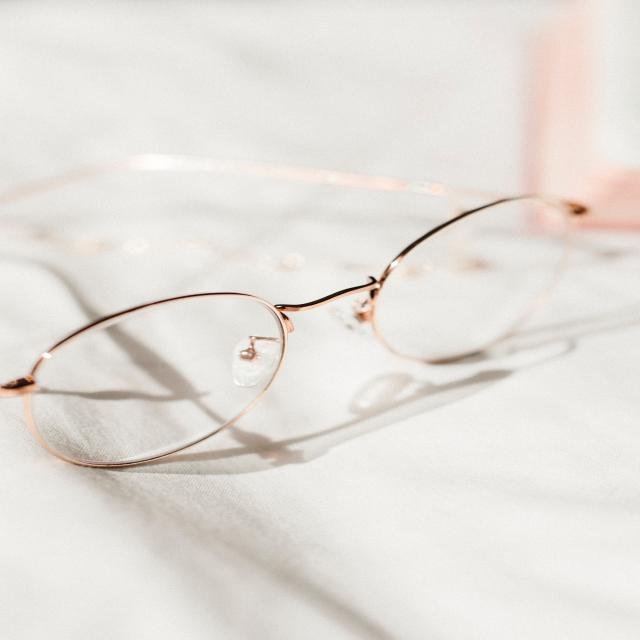Glass: (1, 289, 298, 472), (364, 192, 606, 374)
